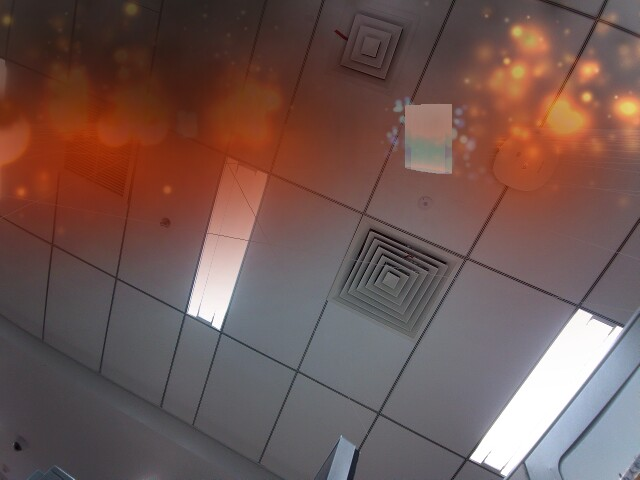fire: (128, 98, 172, 149), (0, 106, 33, 171), (94, 110, 134, 148)
